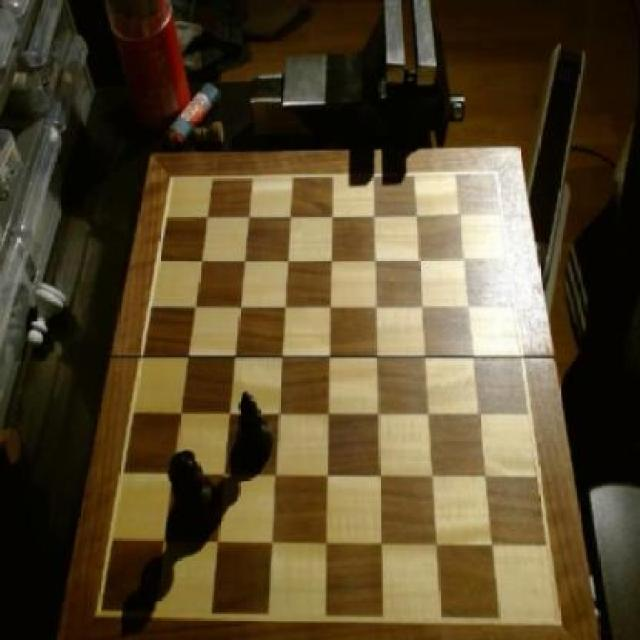bishop: (231, 382, 275, 474)
black-pawn: (164, 448, 220, 542)
